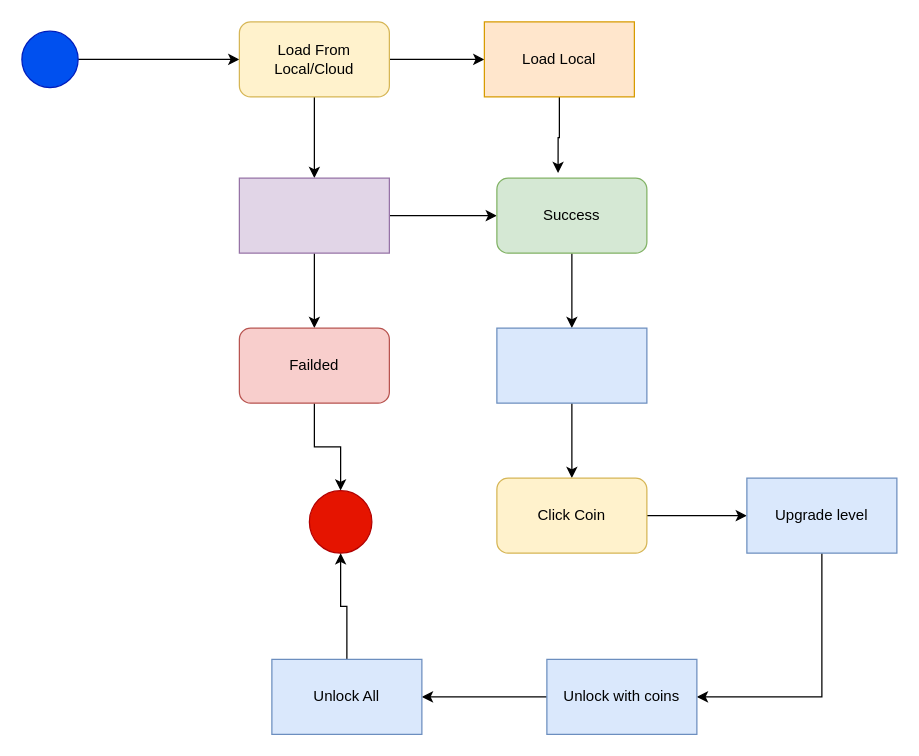
Some shapes in this 919 by 756 pixel diagram are drawn without their labels. Each missing label, with the centre of its shape:
End: the point at 340,521
Load Cloud: the point at 313,215
Load Game: the point at 571,365
Start: the point at 49,59
